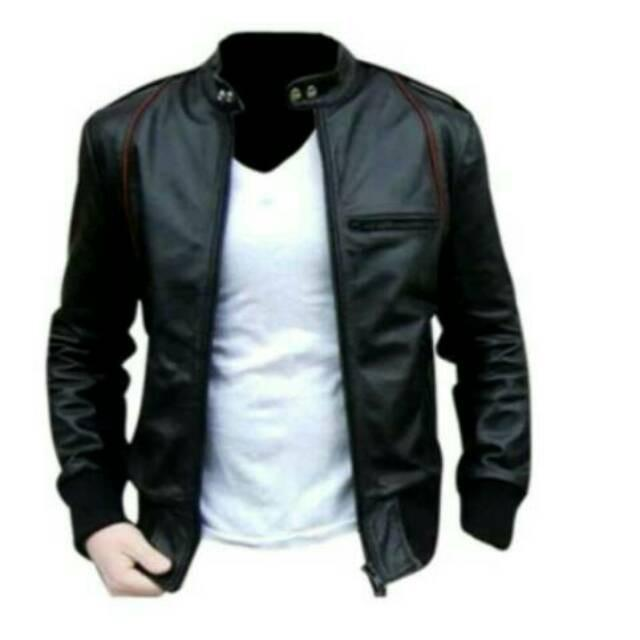jacket: (43, 29, 534, 584)
